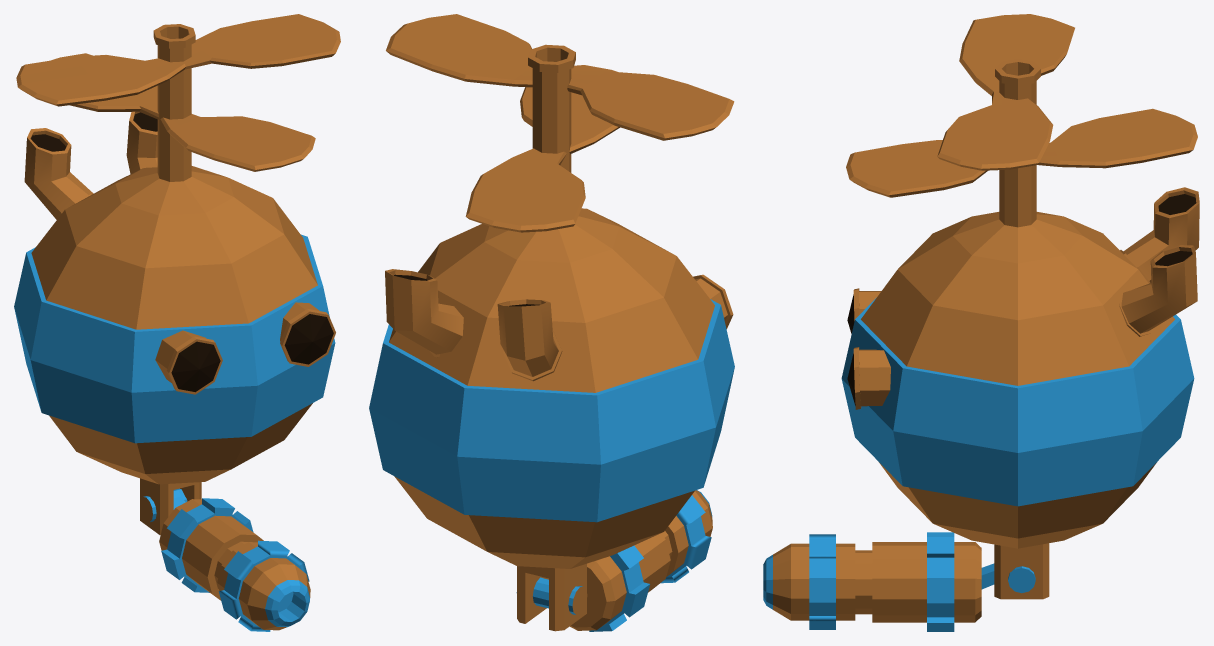
The model's file is GunBot.fbx.
3 renders of one model, left to right at view 1: azimuth 30°, elevation 25°; view 2: azimuth 150°, elevation 25°; view 3: azimuth 270°, elevation 25°, orthographic. The views are drawn at different scales.
Parts seen in each view (by area): view 1: GunBot; view 2: GunBot; view 3: GunBot.
Part boxes in pixels (x1,y1,x2,y2): GunBot: [14, 14, 340, 631]; GunBot: [369, 14, 734, 631]; GunBot: [763, 14, 1199, 631].
Size of the model in its own units: 98.55 by 167 by 118.
